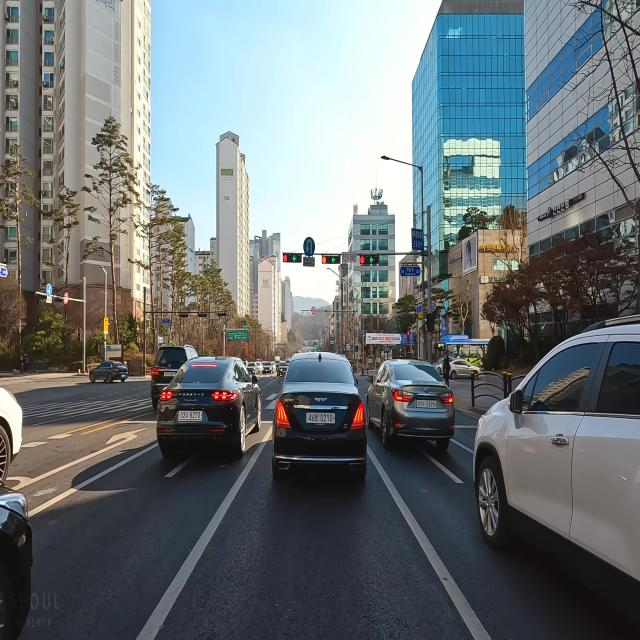Red Light: (360, 255, 365, 264), (283, 254, 288, 261), (322, 256, 326, 264)
